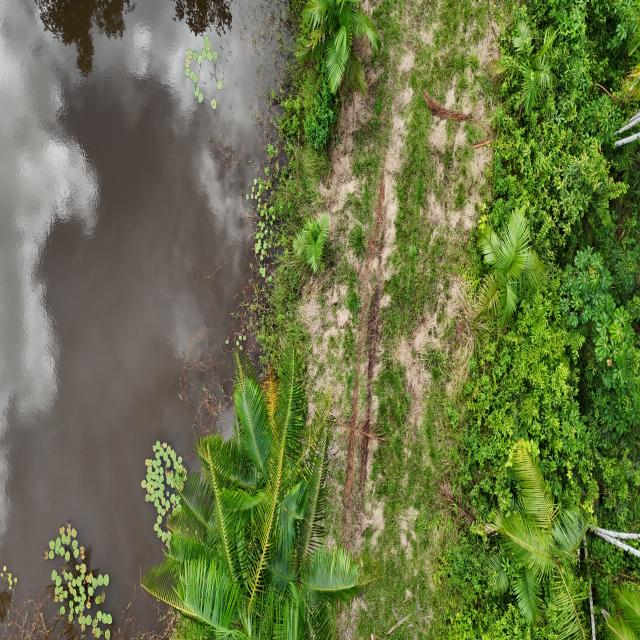vegetation: (140, 329, 380, 638)
